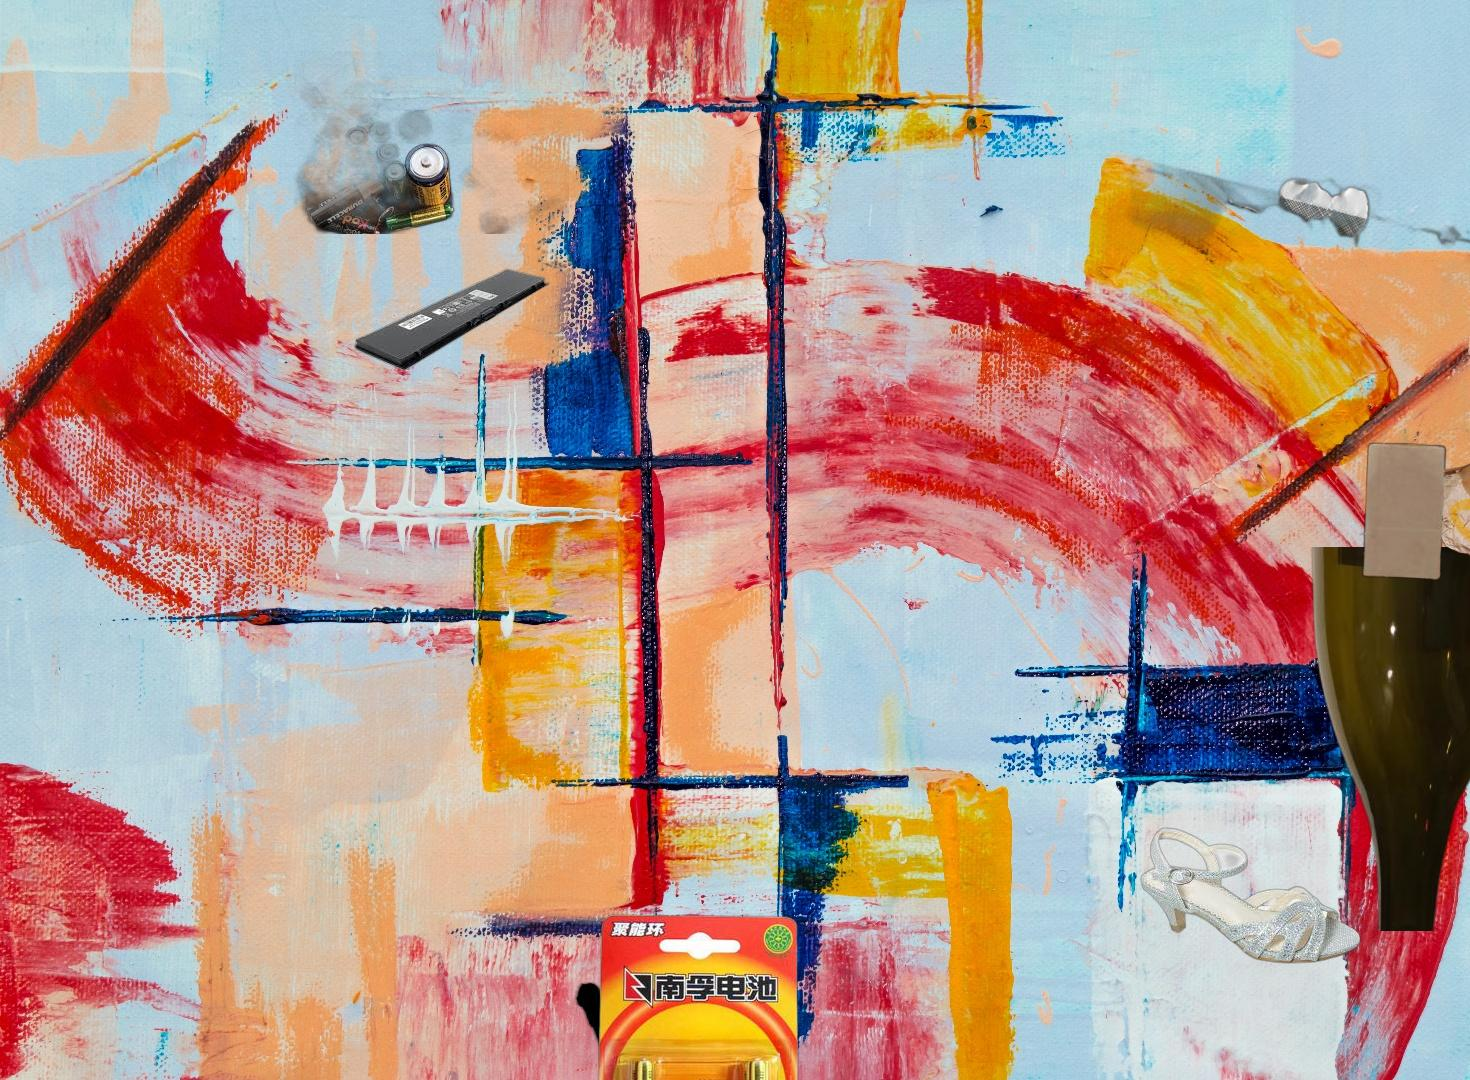battery: (294, 51, 570, 234), (592, 913, 802, 1080), (352, 266, 552, 373)
glass: (1307, 547, 1470, 930)
paper: (1122, 156, 1470, 464)
paper-bag: (1359, 411, 1470, 593)
shoes: (1138, 825, 1363, 966)
trashbox-cardboard: (556, 956, 706, 1080)
